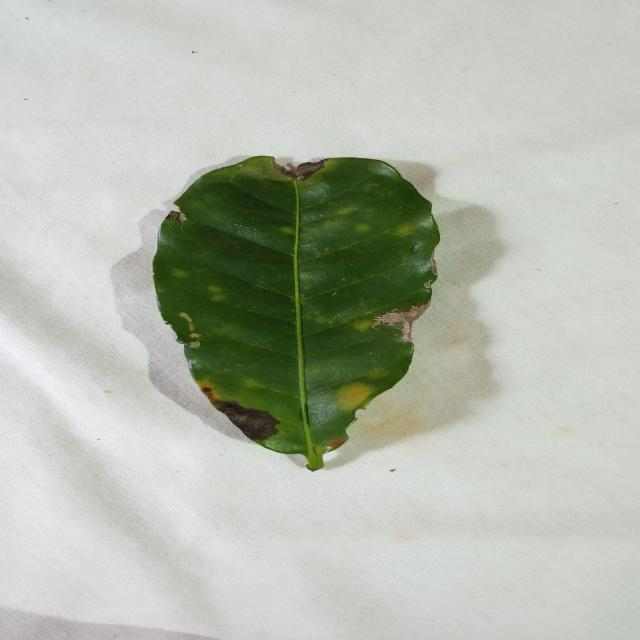Enfermedad-Roya: (151, 157, 441, 472)
